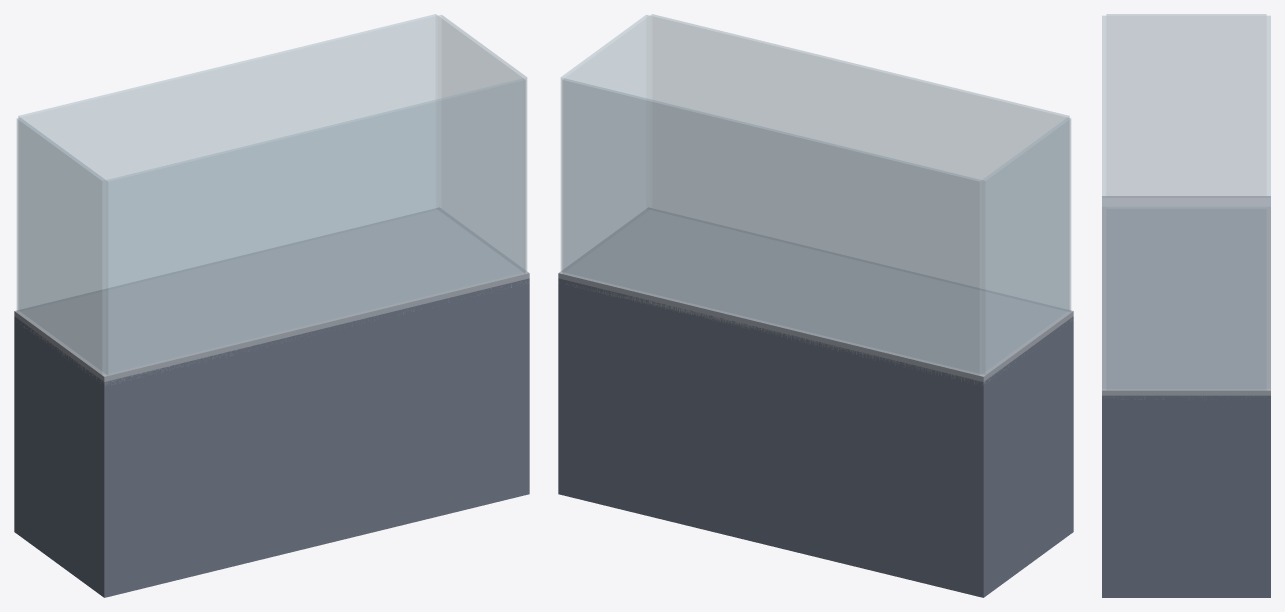
File: aquarium-lite.glb
3 renders of one model, left to right at view 1: azimuth 30°, elevation 25°; view 2: azimuth 150°, elevation 25°; view 3: azimuth 270°, elevation 25°, orthographic. The views are drawn at different scales.
Visible parts, largest first — view 1: aquarium; view 2: aquarium; view 3: aquarium.
Part boxes in pixels (x1=…): aquarium: x1=14, y1=14, x2=529, y2=597; aquarium: x1=558, y1=14, x2=1073, y2=597; aquarium: x1=1102, y1=14, x2=1270, y2=597.
Bounding box in the file's own units: 1.5 × 1.4 × 0.5498.
